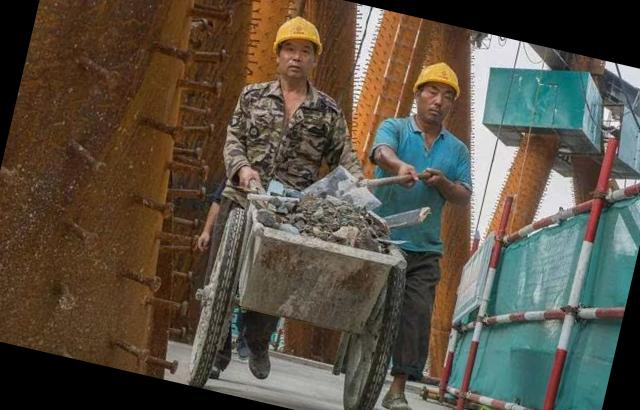helmet: (264, 9, 328, 58), (411, 57, 464, 97)
no_wear: (346, 114, 471, 264), (224, 80, 338, 212)
